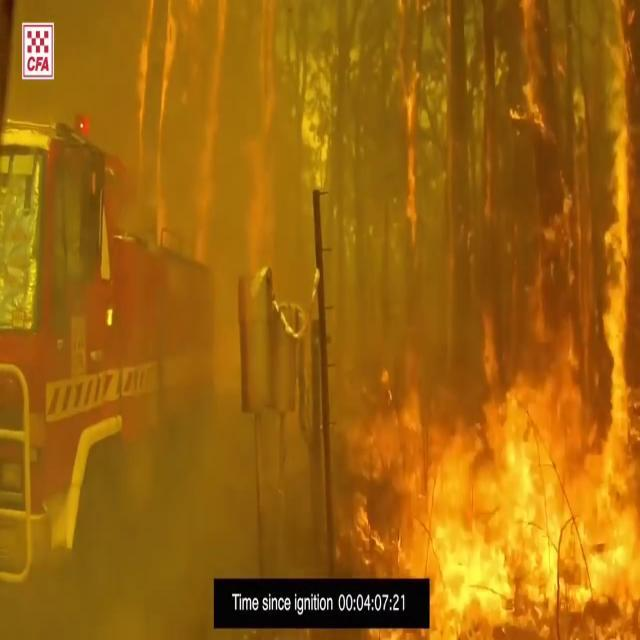Fire: (391, 310, 640, 636), (571, 22, 640, 388)
